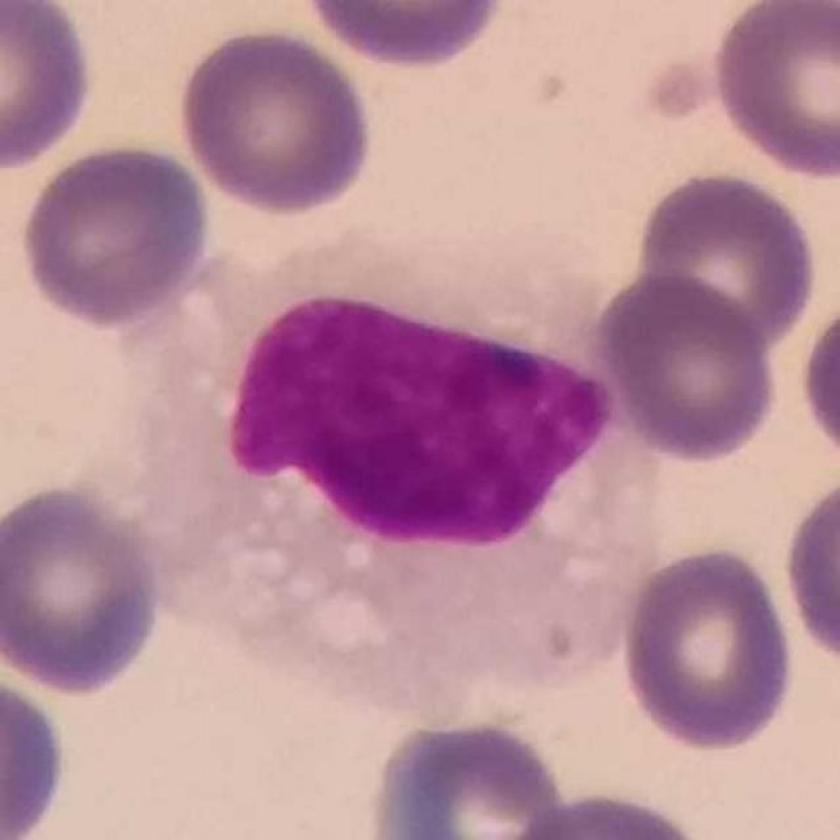monocyte: (90, 245, 664, 714)
